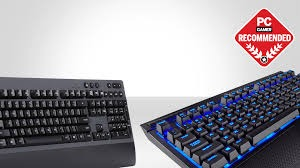keyboard: (148, 71, 300, 166), (0, 78, 133, 148)
